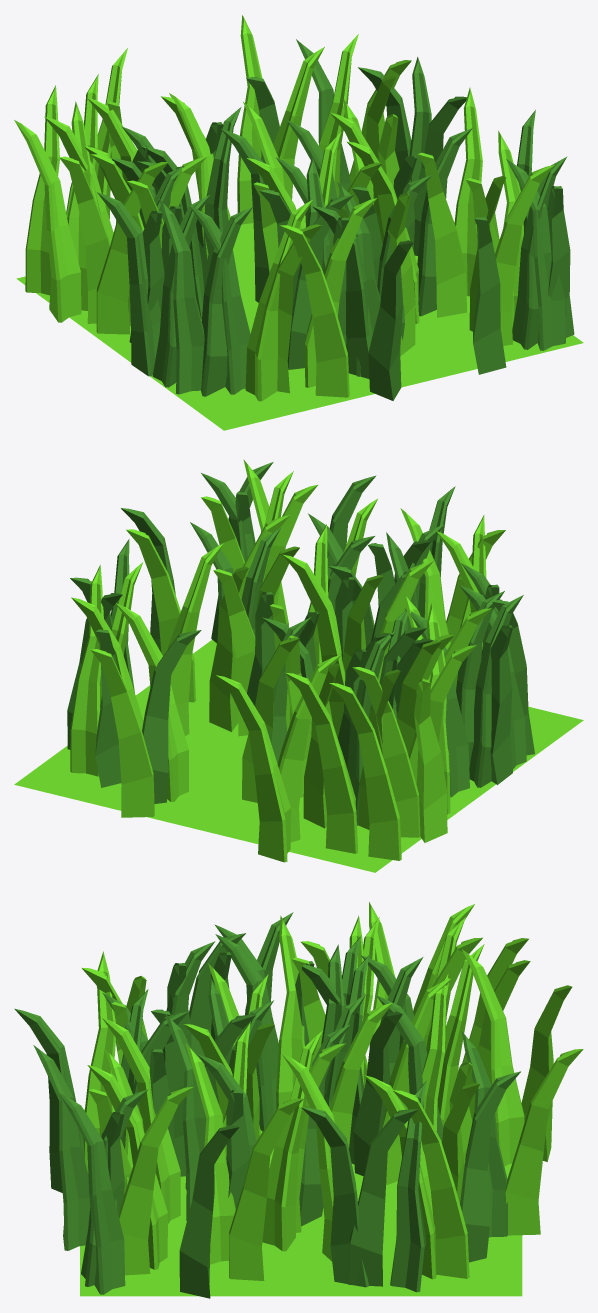
Rendered from GrassLL.fbx.
3 renders of one model, top to bottom at view 1: azimuth 30°, elevation 25°; view 2: azimuth 150°, elevation 25°; view 3: azimuth 270°, elevation 25°, orthographic. The views are drawn at different scales.
Parts seen in each view (by area): view 1: Plane.008; view 2: Plane.008; view 3: Plane.008.
Boxes of the visible parts, x1,y1,x2,y2 form: Plane.008: [14, 15, 583, 430]; Plane.008: [14, 460, 583, 872]; Plane.008: [14, 902, 583, 1298].
Bounding box in the file's own units: 224 × 93.05 × 249.
